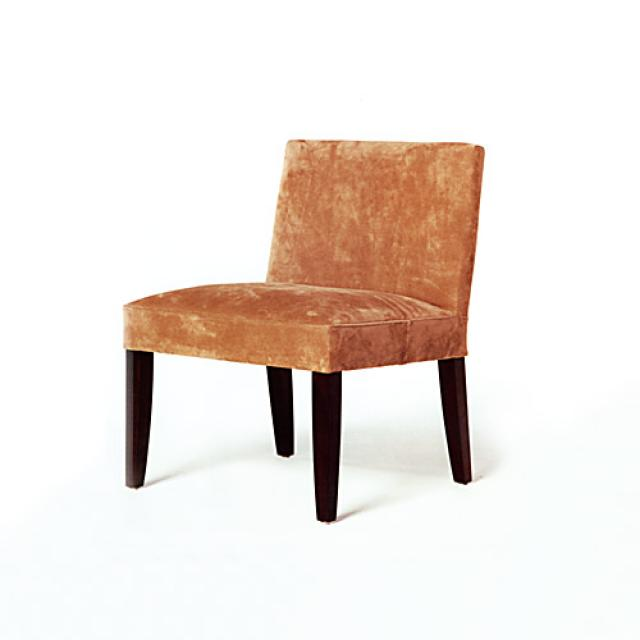chair: (122, 137, 485, 522)
